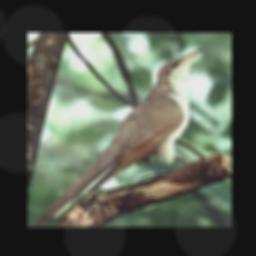Cuckoo: (33, 49, 203, 228)
